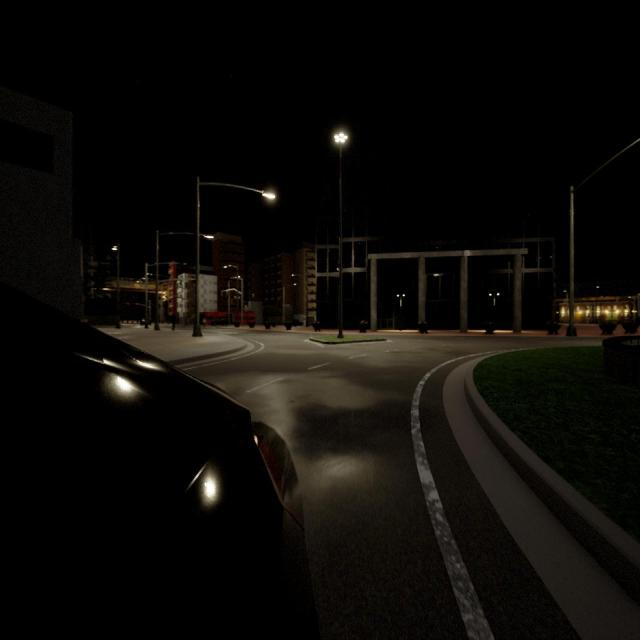Vehicle: (1, 291, 307, 640), (231, 311, 256, 327), (204, 312, 227, 326)
traffic_light: (127, 303, 129, 305), (136, 303, 138, 305)
